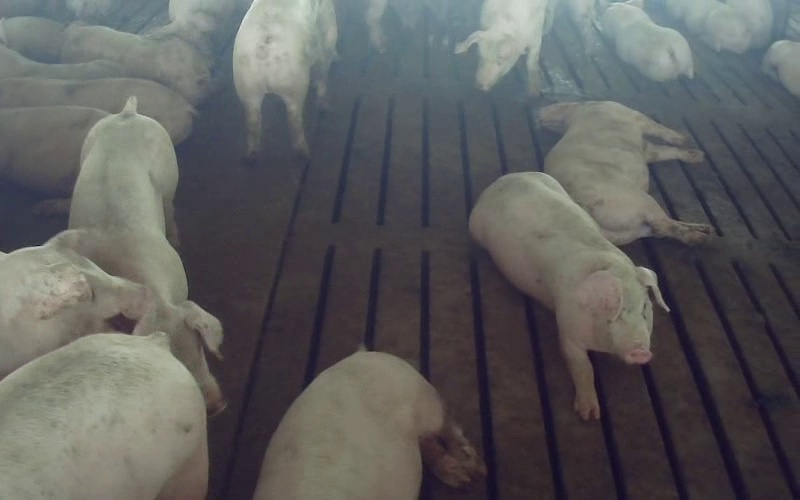pig: (470, 172, 667, 419), (69, 98, 223, 412), (254, 348, 484, 499), (0, 333, 207, 499), (541, 101, 712, 244), (0, 231, 144, 378), (233, 0, 336, 159), (60, 24, 210, 104), (455, 0, 553, 94), (601, 3, 692, 81), (666, 0, 751, 53)
